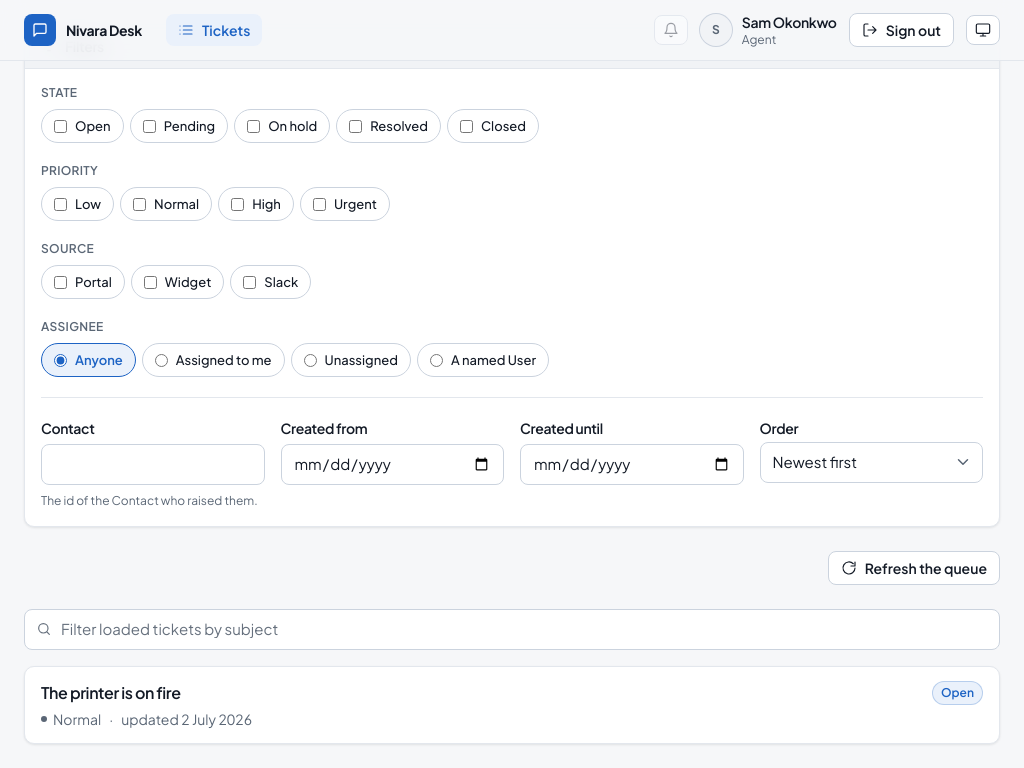
Test case: internal notes › says in words that the customer cannot see one, ahead of the note
(page scrolled)
Click the button "The printer is on fire Normal · updated 2 July 2026 Open": point(111, 692) x1=25 y1=666 x2=999 y2=742
(page scrolled)
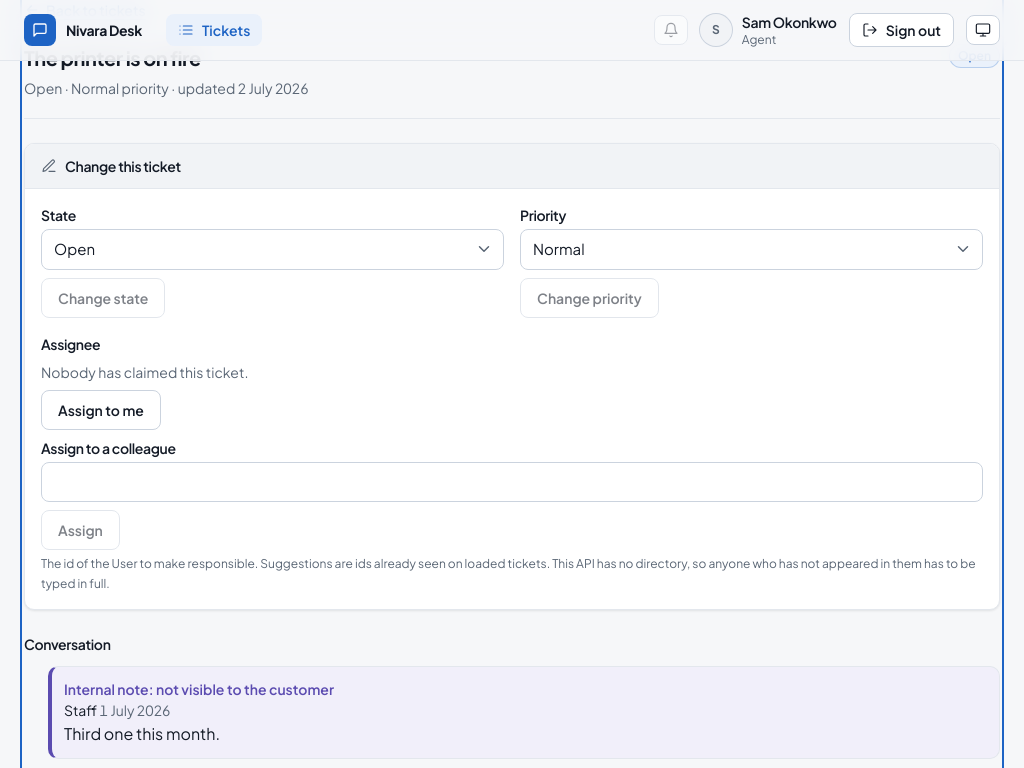
Expected: the heading "The printer is on fire" is shown, x1=24 y1=44 x2=201 y2=72
Expected: the list item shows "Internal note: not visible to the customer", x1=64 y1=680 x2=334 y2=698
